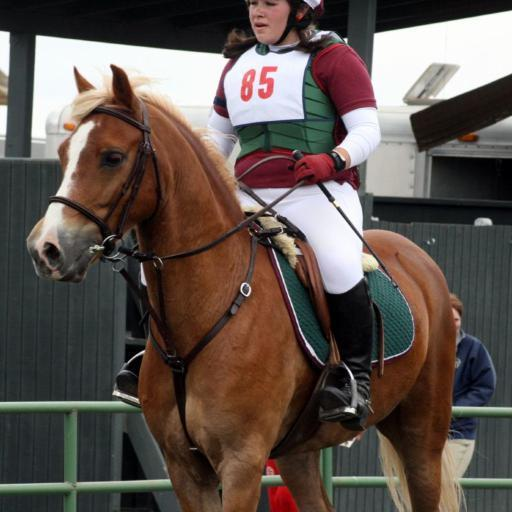horse: (22, 62, 486, 512)
